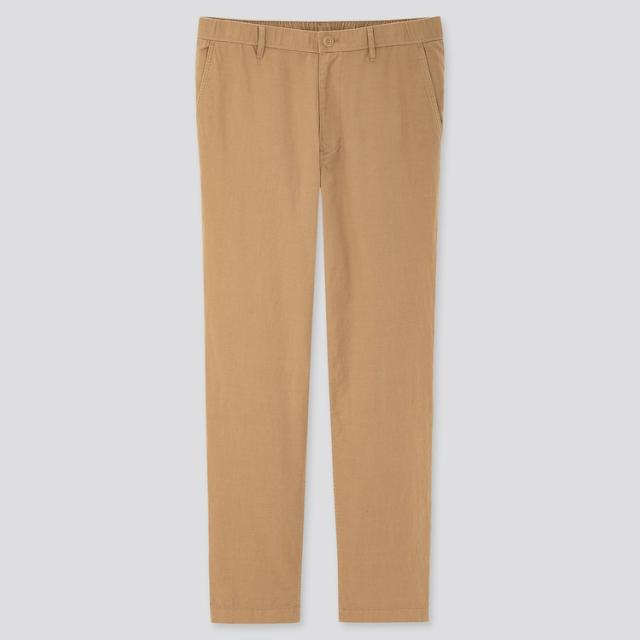long-pants: (195, 17, 446, 628)
